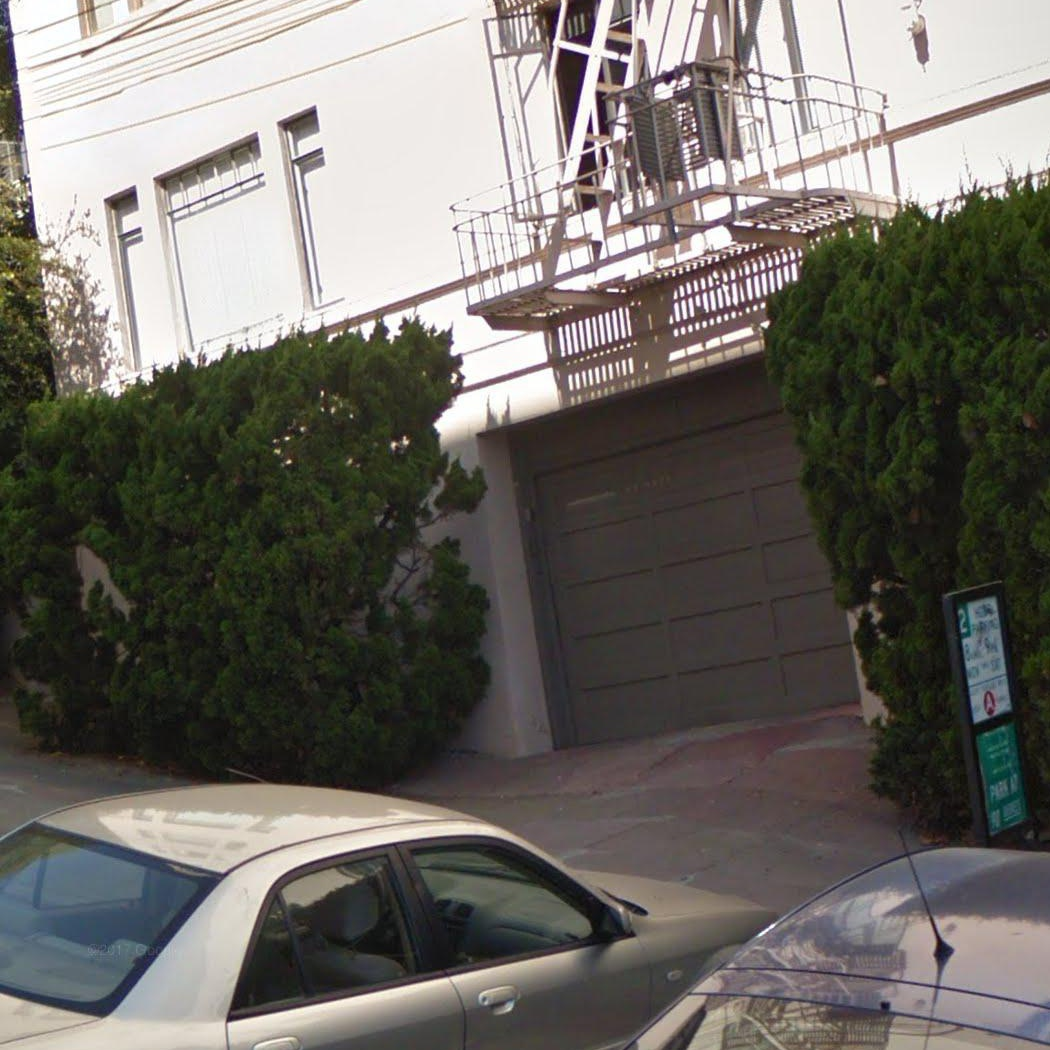2 Hour Parking: (952, 592, 1015, 727)
